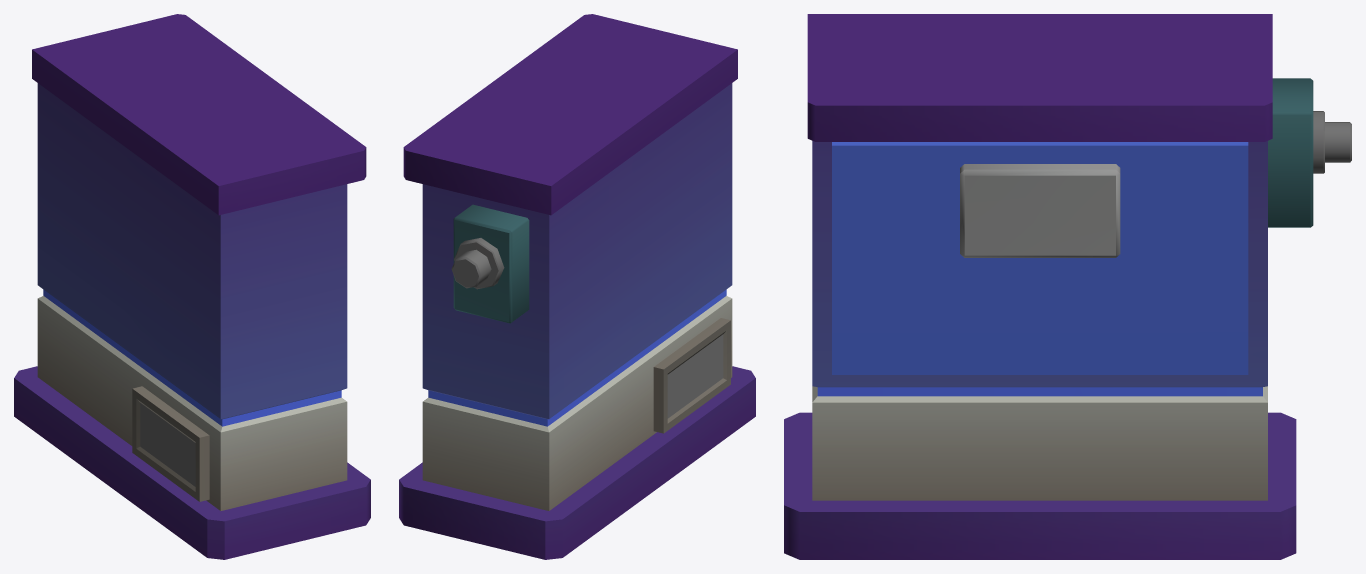
The model's file is Prop_1_A.glb.
The picture shows the model from 3 angles, left to right: view 1: azimuth 30°, elevation 25°; view 2: azimuth 150°, elevation 25°; view 3: azimuth 270°, elevation 25°; orthographic projection. The views are drawn at different scales.
Visible parts, largest first — view 1: Prop_1_A; view 2: Prop_1_A; view 3: Prop_1_A.
Part boxes in pixels (x1,y1,x2,y2): Prop_1_A: (14, 14, 370, 559); Prop_1_A: (399, 14, 755, 559); Prop_1_A: (784, 14, 1351, 559).
Size of the model in its own units: 0.7656 by 1.61 by 1.82.
Materials: 2 (2 with a texture image).
